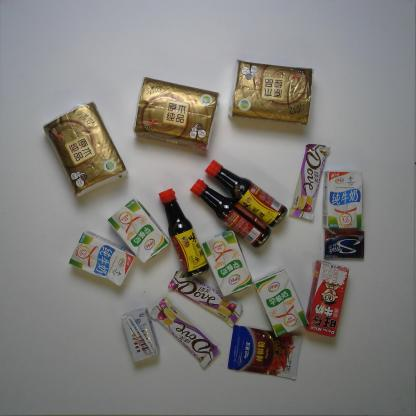Chocolate: (149, 296, 219, 368), (168, 268, 244, 328), (288, 142, 332, 223)
Gum: (323, 226, 367, 262)
Milk: (108, 199, 169, 265), (70, 231, 135, 288), (253, 271, 307, 337), (201, 232, 255, 297), (307, 259, 350, 337), (324, 170, 364, 230), (121, 308, 158, 363)
Seasoner: (191, 178, 272, 249), (206, 159, 286, 228), (157, 188, 210, 279), (227, 326, 303, 380)
Tissue: (42, 101, 127, 198), (136, 76, 220, 154), (232, 59, 312, 126)
